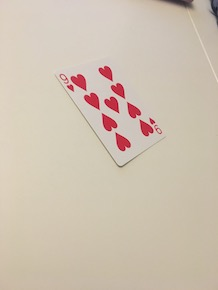NineOfHearts: (52, 52, 172, 169)
